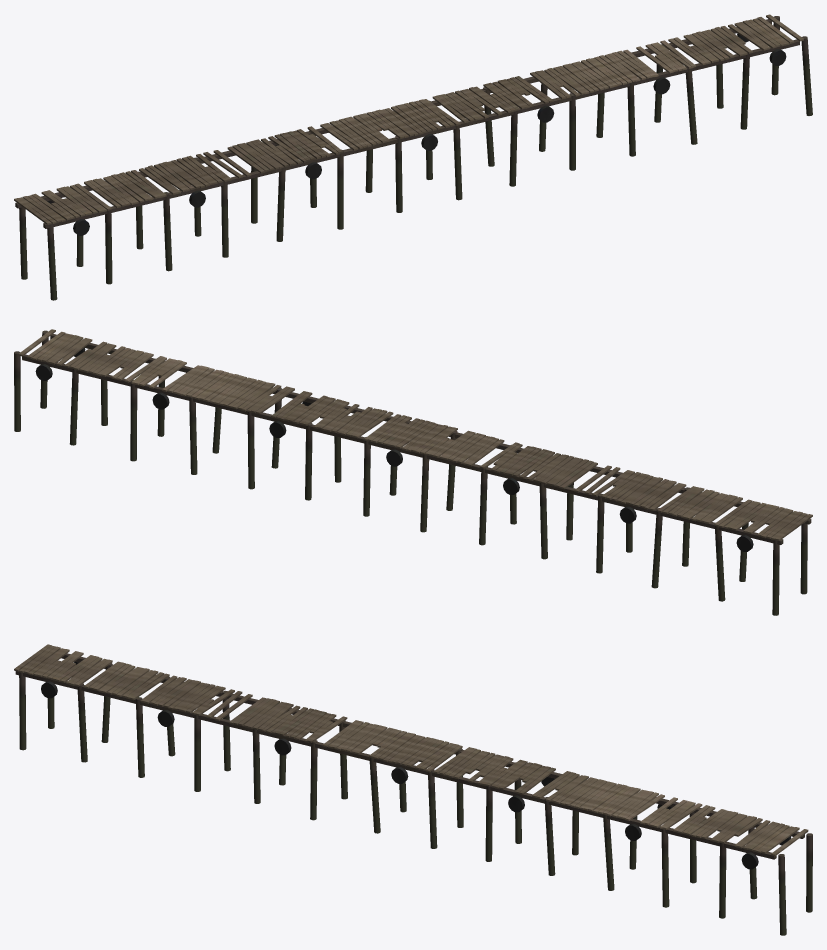
Rendered from a06_pier_b.glb.
3 renders of one model, top to bottom at view 1: azimuth 30°, elevation 25°; view 2: azimuth 150°, elevation 25°; view 3: azimuth 330°, elevation 25°, orthographic.
Visible parts, largest first — view 1: body; view 2: body; view 3: body.
Part boxes in pixels (<box>): body: <box>14,14,812,300</box>; body: <box>14,329,812,615</box>; body: <box>14,644,812,935</box>.
Size of the model in its own units: 1 by 0.0982 by 0.0804.
1 material, 1 textured.
